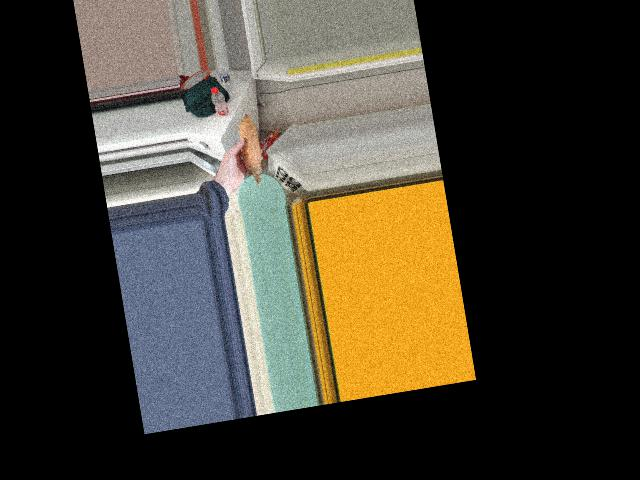sweet_potato: (237, 115, 263, 177)
